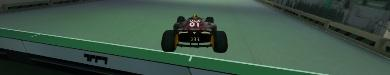Car: (160, 13, 228, 52)
grass: (0, 0, 389, 74)
